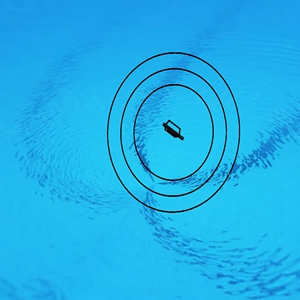circle: (102, 47, 244, 219)
submarine: (163, 117, 188, 141)
